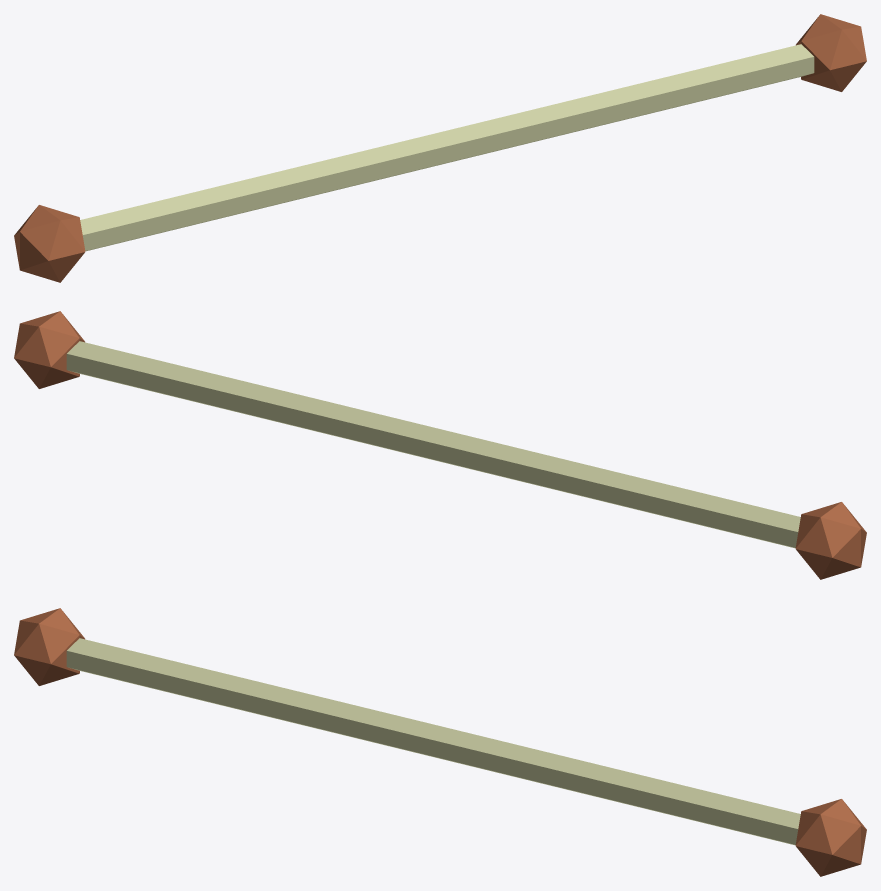
The model's file is walker_pole.glb.
3 renders of one model, top to bottom at view 1: azimuth 30°, elevation 25°; view 2: azimuth 150°, elevation 25°; view 3: azimuth 330°, elevation 25°, orthographic.
Visible parts, largest first — view 1: Pole; view 2: Pole; view 3: Pole.
Boxes of the visible parts, box(x1,y1,x2,y2) form: Pole: box(14, 14, 866, 282); Pole: box(14, 311, 866, 579); Pole: box(14, 608, 866, 876).
Bounding box in the file's own units: 2.15 × 0.1531 × 0.1531.
